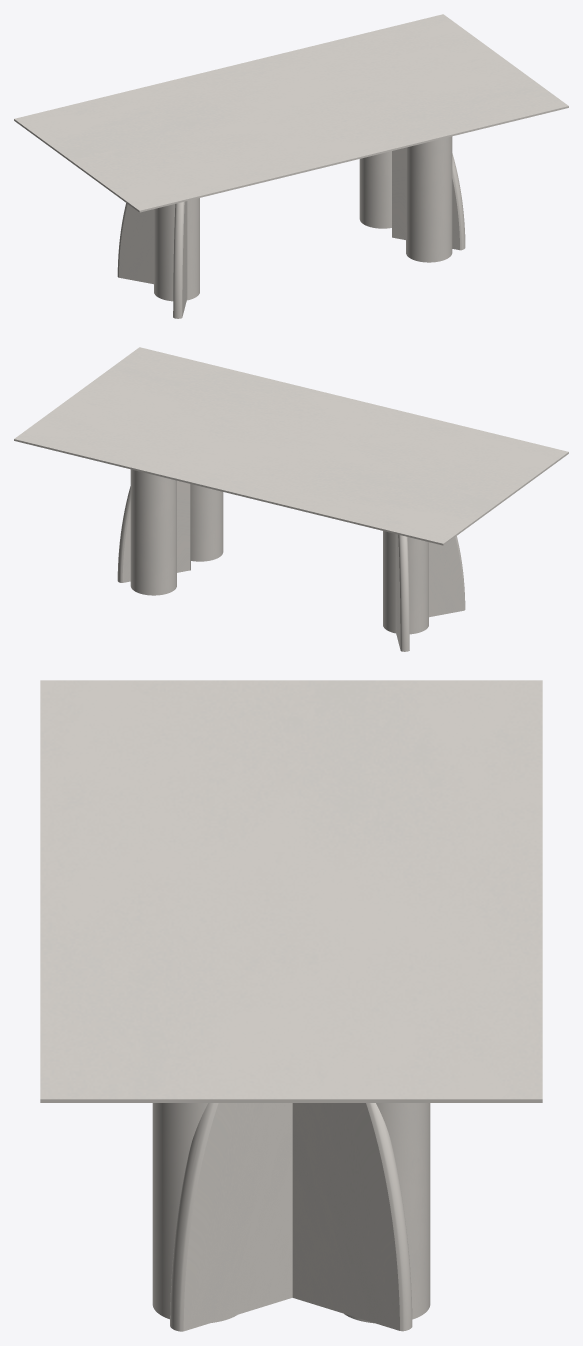
File: pearlwhite_recta_facet_cylinder.glb
3 views of the same model, one above another, from view 1: azimuth 30°, elevation 25°; view 2: azimuth 150°, elevation 25°; view 3: azimuth 270°, elevation 25° (orthographic). The views are drawn at different scales.
Parts seen in each view (by area): view 1: facet_recta, cylinder, newtable2_singleleft1, newtable2_singleright2, newtable2_singleright1; view 2: facet_recta, cylinder, newtable2_singleright1, newtable2_singleleft2, newtable2_singleleft1; view 3: facet_recta, newtable2_singleright2, newtable2_singleleft2, cylinder.
Boxes of the visible parts, left/top/right/bottom form: facet_recta: left=14, top=14, right=568, bottom=212; cylinder: left=154, top=136, right=452, bottom=301; newtable2_singleleft1: left=117, top=203, right=153, bottom=284; newtable2_singleright2: left=392, top=147, right=465, bottom=250; newtable2_singleright1: left=173, top=201, right=187, bottom=318; facet_recta: left=14, top=347, right=568, bottom=545; cylinder: left=130, top=469, right=428, bottom=634; newtable2_singleright1: left=429, top=536, right=465, bottom=617; newtable2_singleleft2: left=117, top=480, right=190, bottom=582; newtable2_singleleft1: left=395, top=534, right=409, bottom=651; facet_recta: left=40, top=680, right=542, bottom=1102; newtable2_singleright2: left=170, top=1103, right=292, bottom=1331; newtable2_singleleft2: left=292, top=1103, right=412, bottom=1331; cylinder: left=152, top=1103, right=430, bottom=1323.
Size of the model in its own units: 7.5 by 2.53 by 3.8.
Materials: 1 (1 with a texture image).
